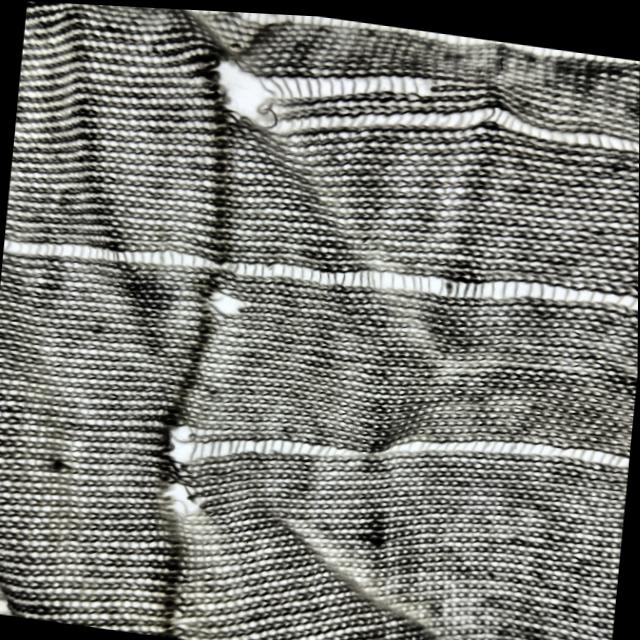Hole: (195, 277, 253, 327), (155, 474, 212, 524)
Stitch: (2, 196, 639, 336), (154, 380, 630, 526), (212, 67, 640, 194), (27, 1, 640, 71), (199, 38, 438, 142), (301, 616, 610, 640)
